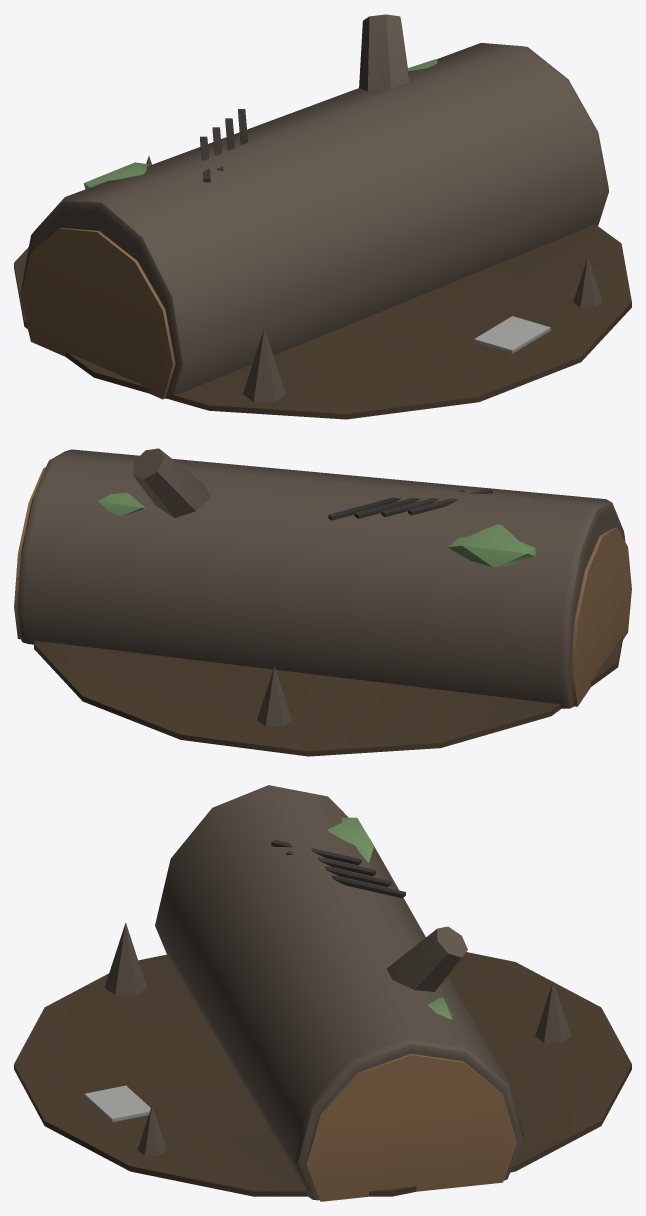
Rendered from den_gator.glb.
3 renders of one model, top to bottom at view 1: azimuth 30°, elevation 25°; view 2: azimuth 150°, elevation 25°; view 3: azimuth 270°, elevation 25°, orthographic. The views are drawn at different scales.
Visible parts, largest first — view 1: den_gator; view 2: den_gator; view 3: den_gator.
Boxes of the visible parts, x1,y1,x2,y2 form: den_gator: (14,14,631,419); den_gator: (14,448,631,756); den_gator: (14,785,631,1201).
Bounding box in the file's own units: 1.93 × 0.669 × 1.88.
